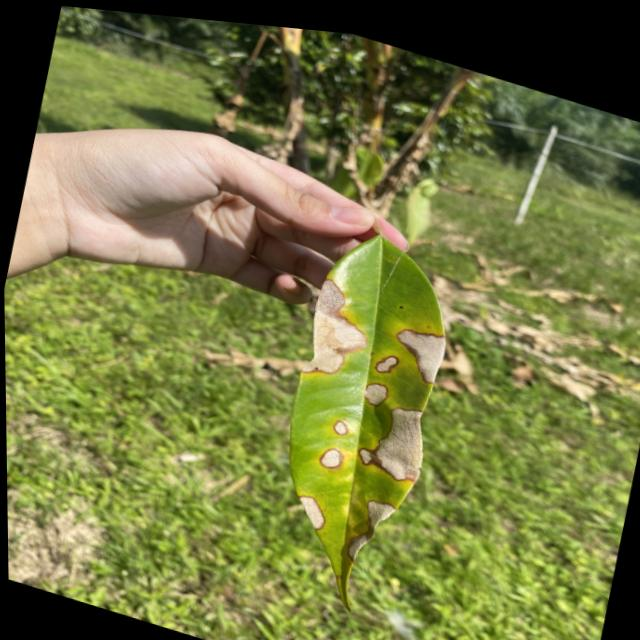Leaf Spot: (328, 483, 436, 633), (278, 253, 378, 402), (387, 301, 458, 379), (377, 393, 435, 482), (270, 468, 340, 534), (368, 324, 410, 373), (349, 433, 391, 468), (357, 367, 389, 400), (316, 433, 341, 467), (326, 409, 353, 435)
